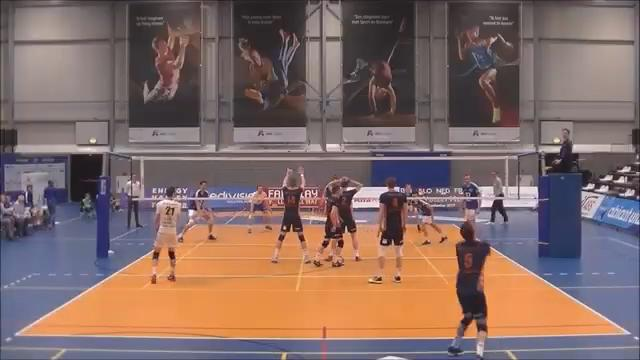battuta: (445, 219, 489, 358)
